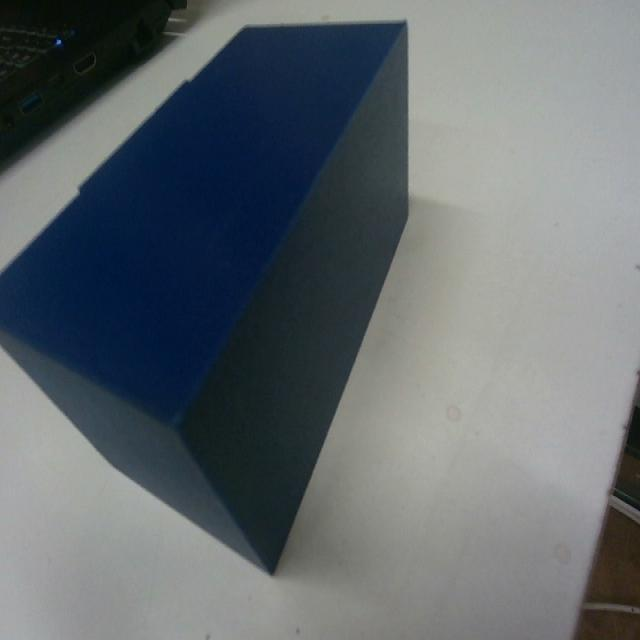Blue Cuboid: (0, 16, 412, 575)
